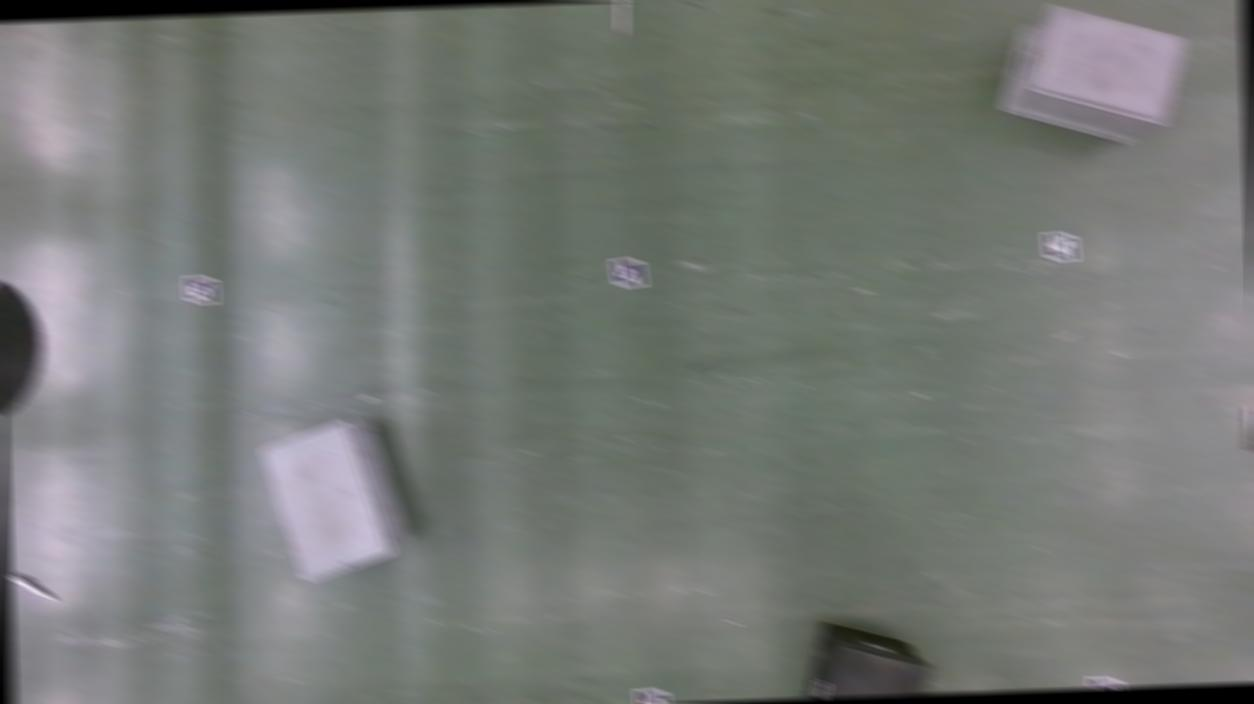probes: (1243, 406, 1254, 452)
rako: (992, 0, 1196, 151), (256, 414, 416, 583), (797, 619, 936, 699)
